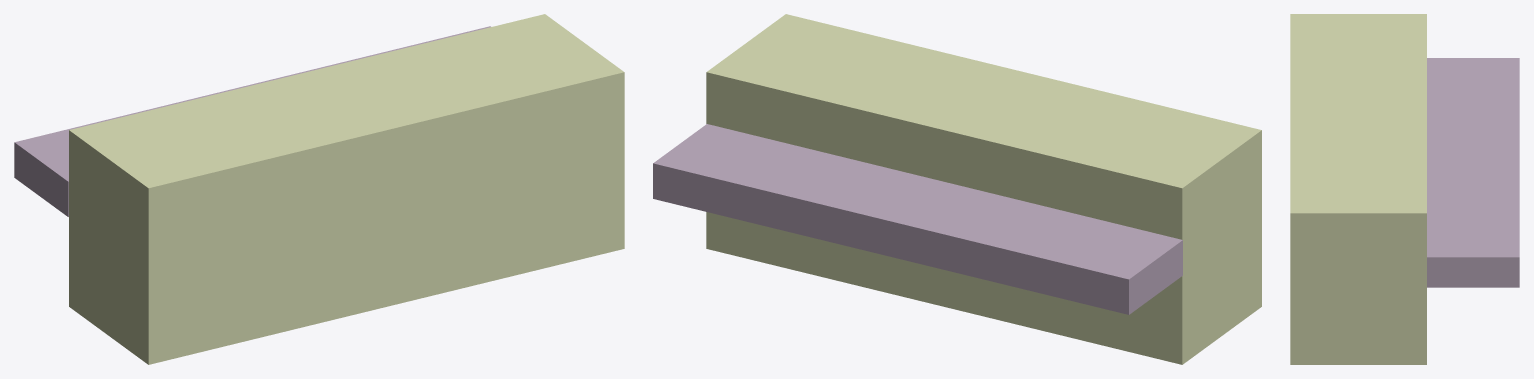
Rendered from front_desk_table.fbx.
The picture shows the model from 3 angles, left to right: view 1: azimuth 30°, elevation 25°; view 2: azimuth 150°, elevation 25°; view 3: azimuth 270°, elevation 25°; orthographic projection. The views are drawn at different scales.
Visible parts, largest first — view 1: front_table; view 2: front_table; view 3: front_table.
Boxes of the visible parts, x1,y1,x2,y2 form: front_table: (14, 14, 624, 364); front_table: (653, 14, 1261, 364); front_table: (1290, 14, 1519, 364).
Bounding box in the file's own units: 15.03 × 5.32 × 7.29.
